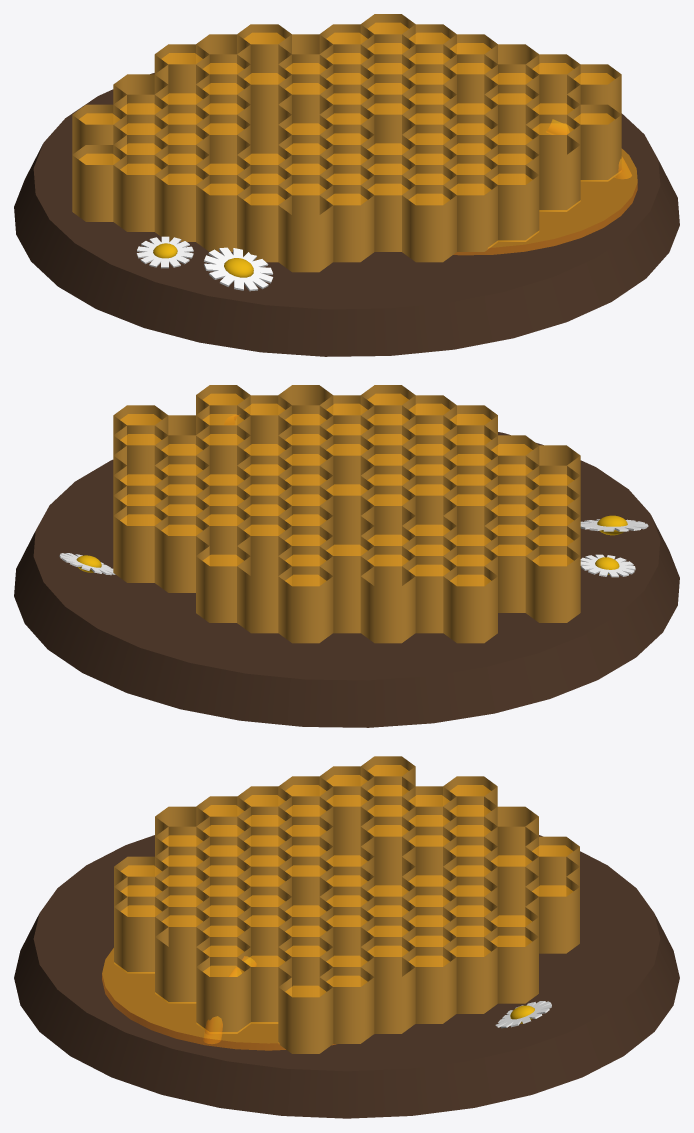
File: natural_honeycomb.glb
The picture shows the model from 3 angles, top to bottom: view 1: azimuth 30°, elevation 25°; view 2: azimuth 150°, elevation 25°; view 3: azimuth 270°, elevation 25°; orthographic projection.
Parts seen in each view (by area): view 1: CombMatrix, NaturalRawHoneycombPlate; view 2: CombMatrix, NaturalRawHoneycombPlate; view 3: CombMatrix, NaturalRawHoneycombPlate.
Part boxes in pixels (x1=…): CombMatrix: x1=72, y1=14, x2=621, y2=272; NaturalRawHoneycombPlate: x1=14, y1=73, x2=679, y2=356; CombMatrix: x1=113, y1=385, x2=580, y2=643; NaturalRawHoneycombPlate: x1=14, y1=414, x2=679, y2=727; CombMatrix: x1=114, y1=756, x2=579, y2=1053; NaturalRawHoneycombPlate: x1=14, y1=835, x2=679, y2=1118.
Size of the model in its own units: 3.4 by 0.57 by 3.4.
